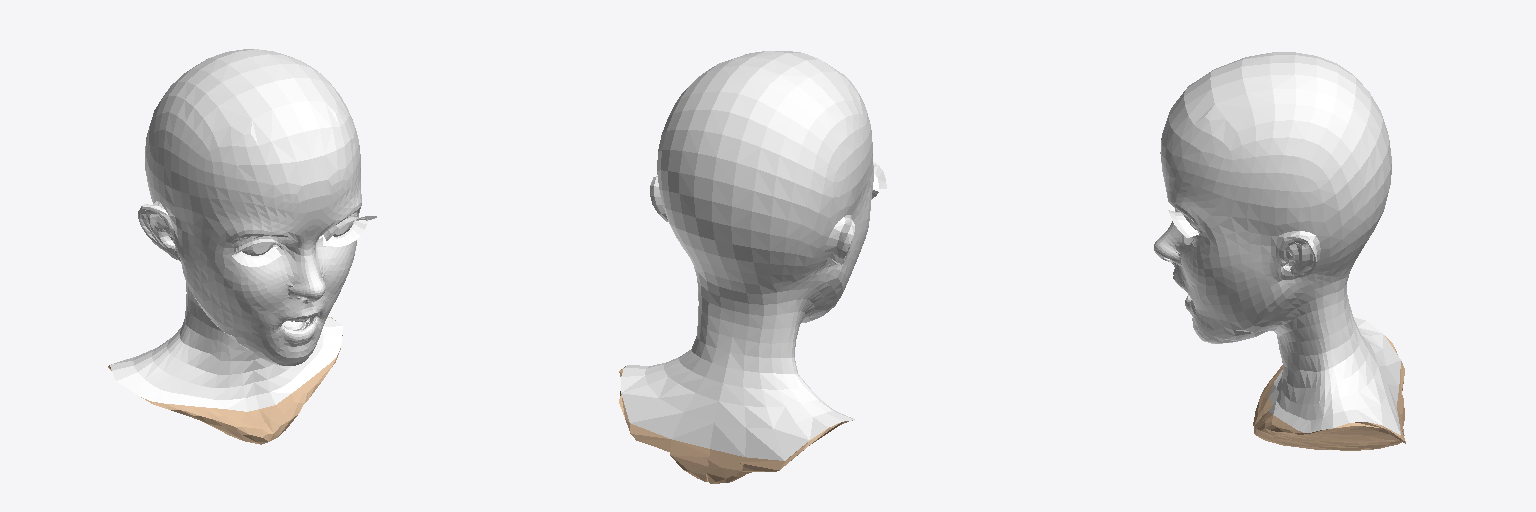
3 views of the same model, side by side, from view 1: azimuth 30°, elevation 25°; view 2: azimuth 150°, elevation 25°; view 3: azimuth 270°, elevation 25° (orthographic).
Parts seen in each view (by area): view 1: Body, Eyelashes; view 2: Body; view 3: Body.
Part boxes in pixels (x1,y1,x2,y2): Body: (110, 49, 361, 411); Eyelashes: (232, 216, 376, 266); Body: (621, 51, 873, 460); Body: (1154, 52, 1400, 434).
Bounding box in the file's own units: 23 × 37.41 × 22.09.